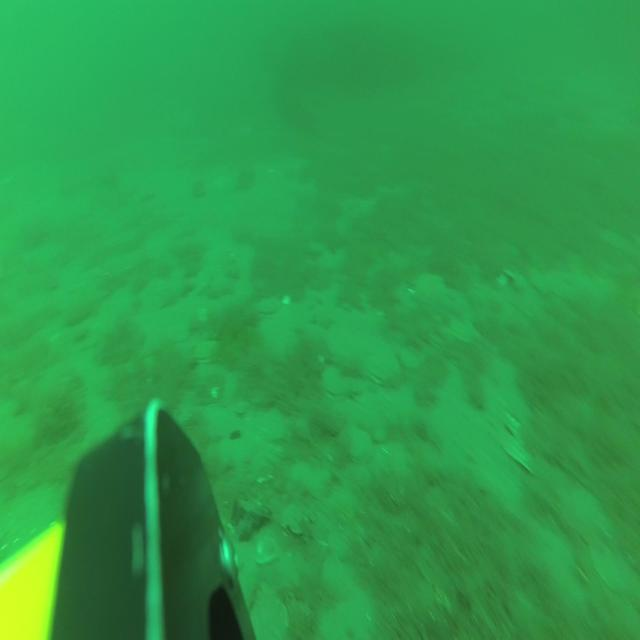scallop: (323, 368, 360, 400), (341, 425, 371, 463), (369, 348, 398, 385), (452, 317, 479, 343), (193, 338, 219, 364), (399, 343, 423, 368), (260, 295, 280, 319), (234, 400, 247, 417)
starfish: (408, 270, 452, 308)
